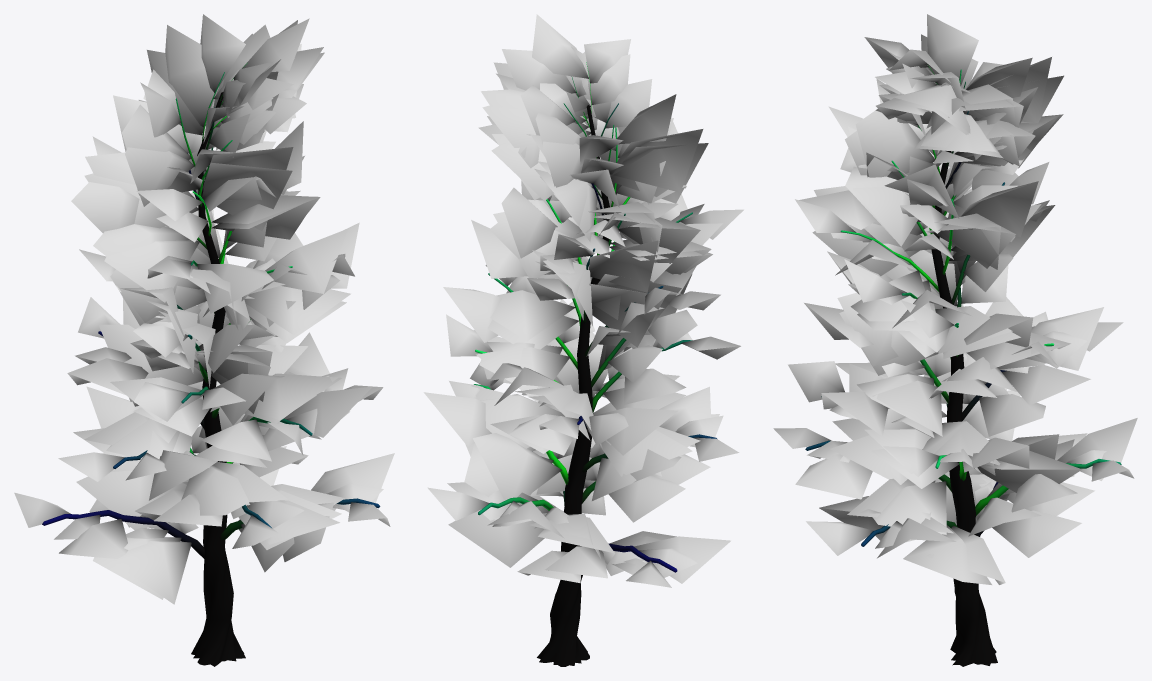
The model's file is aspen_02.fbx.
The picture shows the model from 3 angles, left to right: view 1: azimuth 30°, elevation 25°; view 2: azimuth 150°, elevation 25°; view 3: azimuth 270°, elevation 25°; orthographic projection. The views are drawn at different scales.
Parts seen in each view (by area): view 1: aspen_02_LOD0; view 2: aspen_02_LOD0; view 3: aspen_02_LOD0.
Boxes of the visible parts, x1,y1,x2,y2 form: aspen_02_LOD0: (14,14,394,666); aspen_02_LOD0: (423,14,743,666); aspen_02_LOD0: (773,14,1137,666).
Size of what is drawn, in the model's own units: 1623 by 3137 by 1631.
